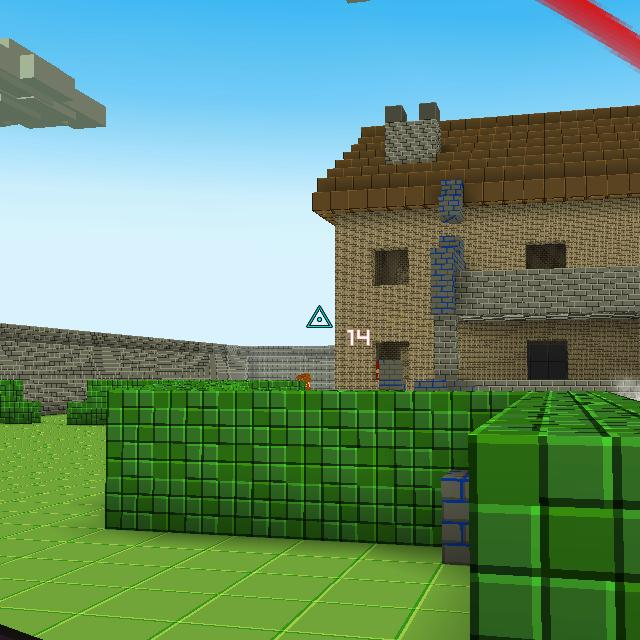enemy: (296, 372, 312, 390), (376, 360, 379, 380)
